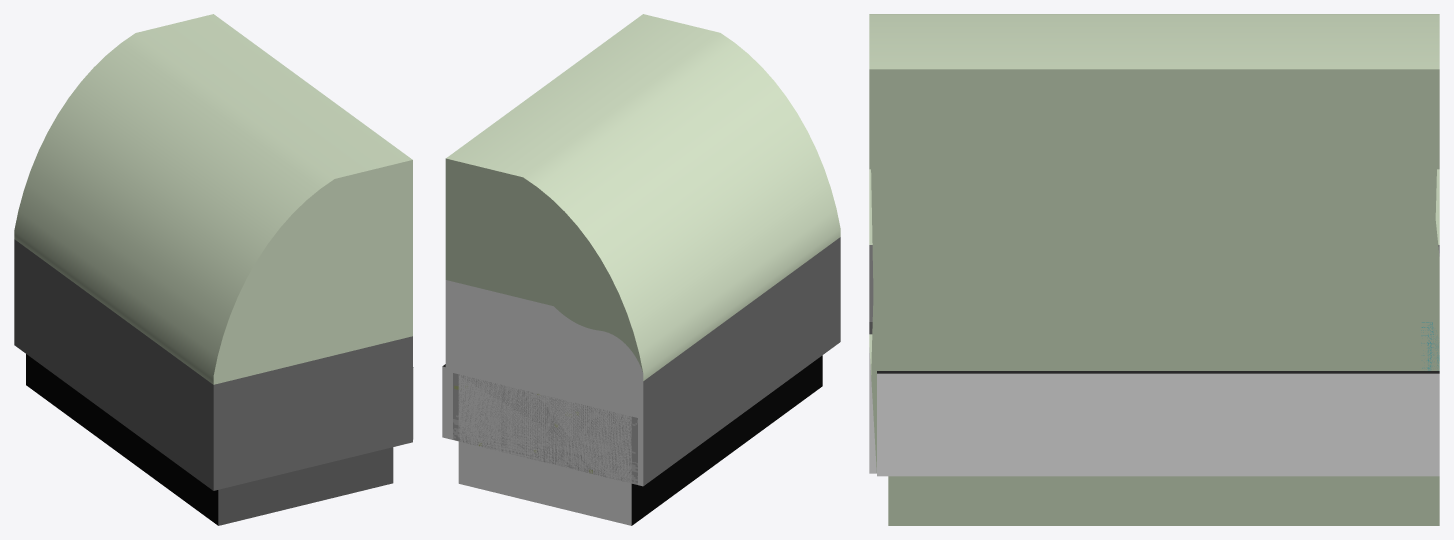
The model's file is 甜品柜.fbx.
3 views of the same model, side by side, from view 1: azimuth 30°, elevation 25°; view 2: azimuth 150°, elevation 25°; view 3: azimuth 270°, elevation 25° (orthographic). The views are drawn at different scales.
Parts seen in each view (by area): view 1: download_mid_6db9e06e90db5824b02f4f3913a7bfd6_ctyp_sp_cv_p7_; view 2: download_mid_6db9e06e90db5824b02f4f3913a7bfd6_ctyp_sp_cv_p7_; view 3: download_mid_6db9e06e90db5824b02f4f3913a7bfd6_ctyp_sp_cv_p7_.
Part boxes in pixels (x1,y1,x2,y2): download_mid_6db9e06e90db5824b02f4f3913a7bfd6_ctyp_sp_cv_p7_: (14,14,413,525); download_mid_6db9e06e90db5824b02f4f3913a7bfd6_ctyp_sp_cv_p7_: (442,14,840,525); download_mid_6db9e06e90db5824b02f4f3913a7bfd6_ctyp_sp_cv_p7_: (869,14,1439,525).
Size of the model in its own units: 862 by 1321 by 1467.
